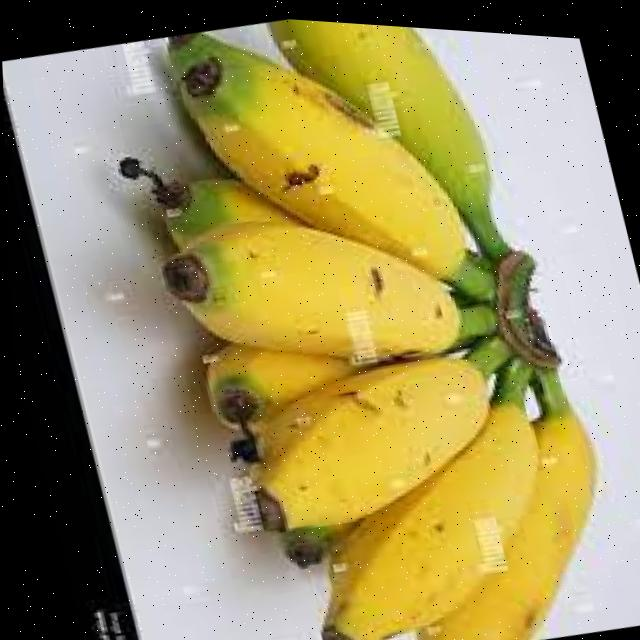Banana: (170, 29, 467, 273), (270, 15, 504, 249), (323, 399, 534, 640), (418, 399, 591, 640), (164, 223, 457, 357), (254, 351, 481, 522)
